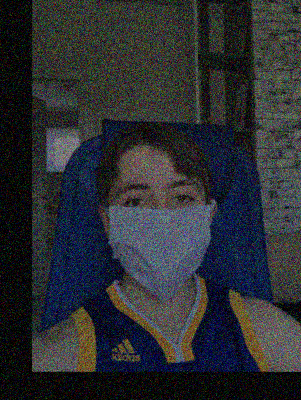with_mask: (106, 176, 212, 301)
